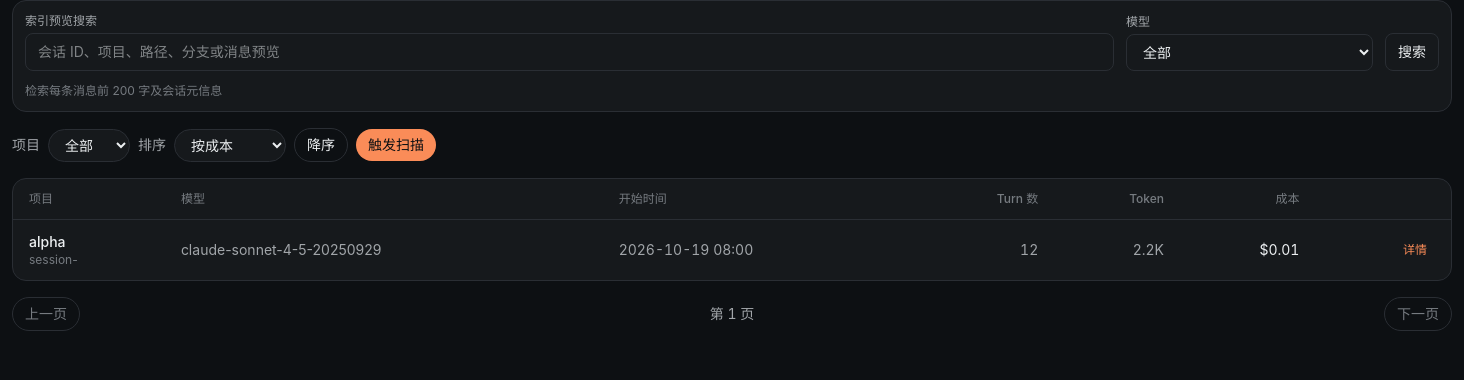
it: SessionsPage › 触发扫描后刷新数据并给出反馈
This screenshot has width=1464, height=380.
Expected: the number of rows with test id "session-row" is 1, [13,220,1451,280]
Click the button "触发扫描": [396, 145] box [356,129,436,161]
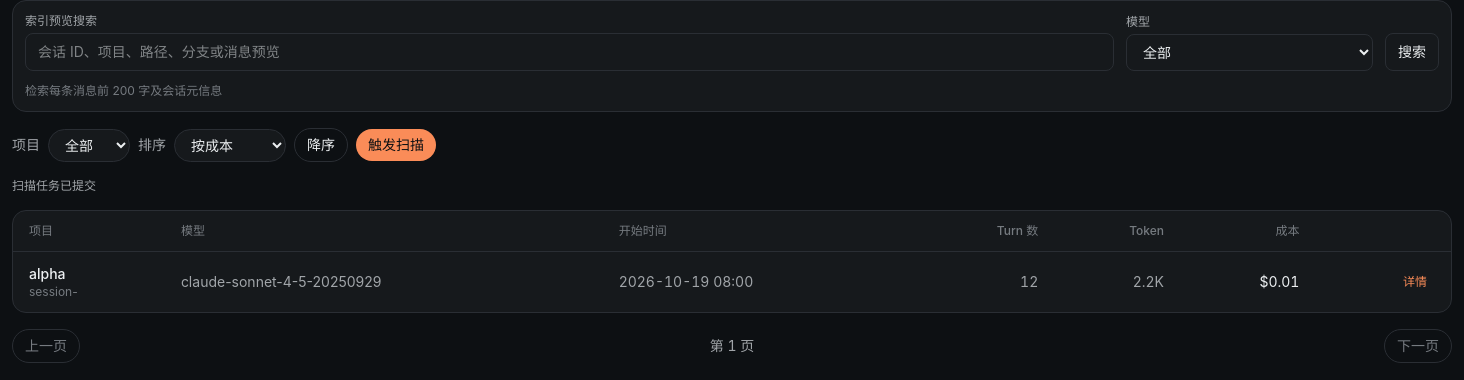
Expected: the text "扫描任务已提交" is shown, [12,178,96,193]
